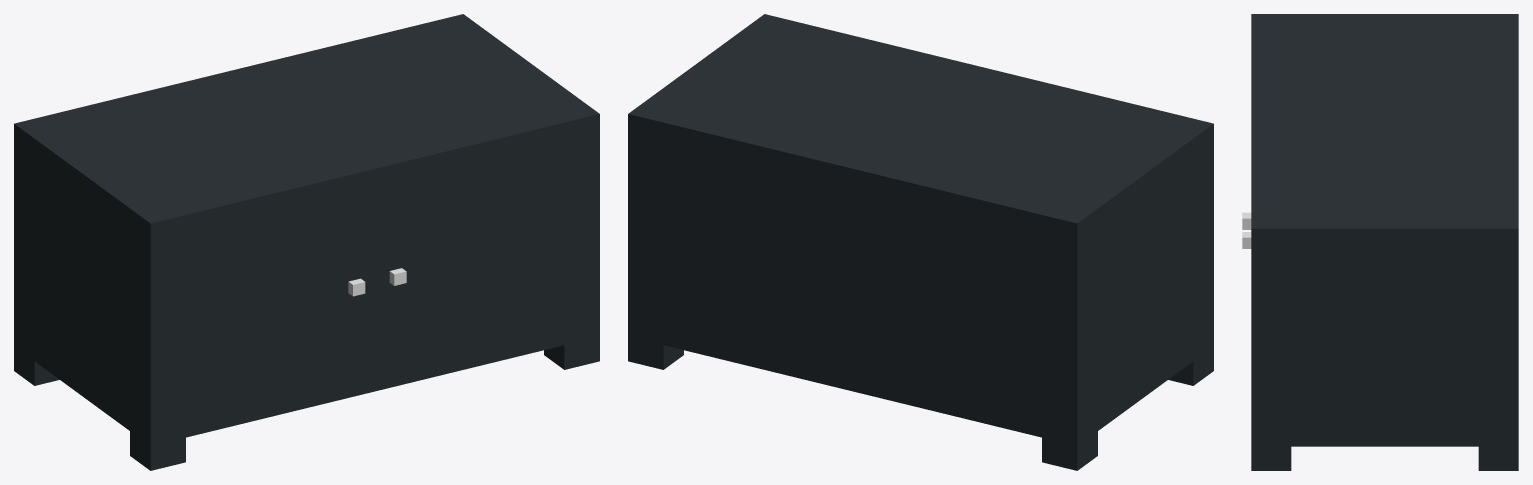
File: drawer.fbx
The picture shows the model from 3 angles, left to right: view 1: azimuth 30°, elevation 25°; view 2: azimuth 150°, elevation 25°; view 3: azimuth 270°, elevation 25°; orthographic projection. The views are drawn at different scales.
Parts seen in each view (by area): view 1: Cube, Cube.002, Cube.001; view 2: Cube; view 3: Cube.
Part boxes in pixels (x1,y1,x2,y2): Cube: (14,14,599,470); Cube.002: (162,180,375,432); Cube.001: (375,128,587,380); Cube: (628,14,1213,470); Cube: (1251,14,1518,470).
Bounding box in the file's own units: 380 × 200 × 207.
